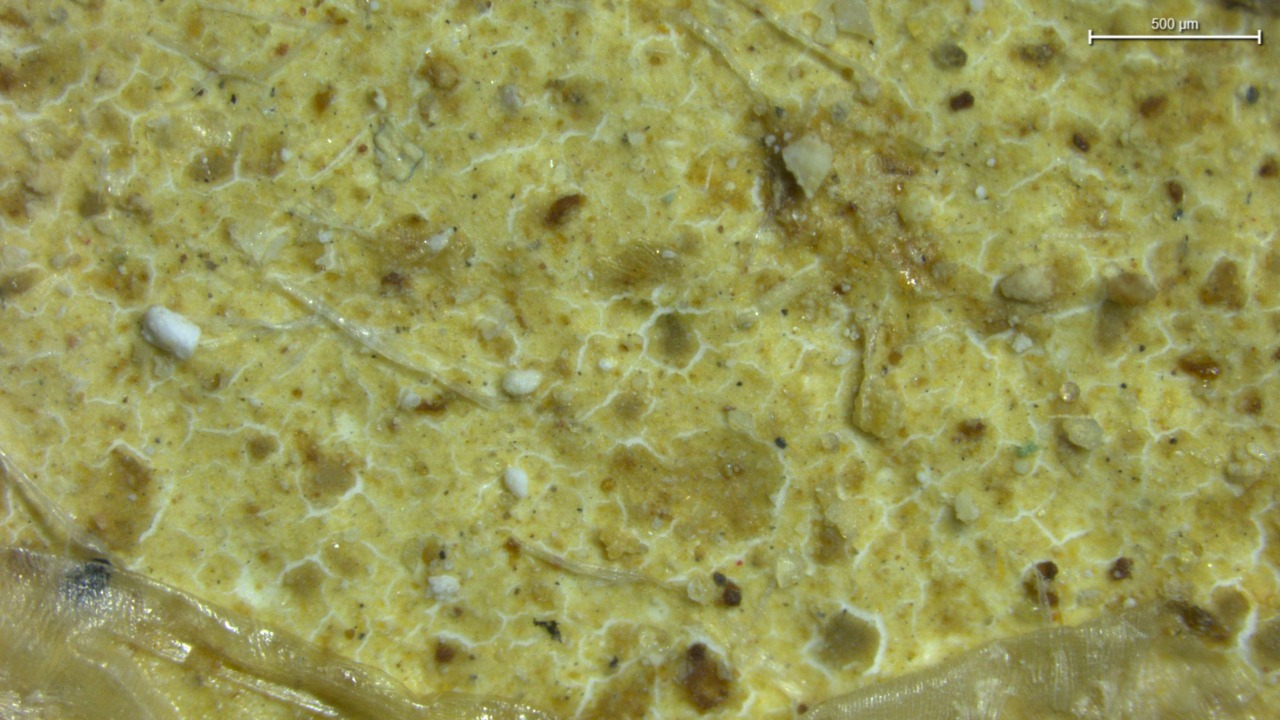microplastic_fragment: (141, 306, 200, 360), (502, 370, 541, 396), (502, 467, 528, 498)
